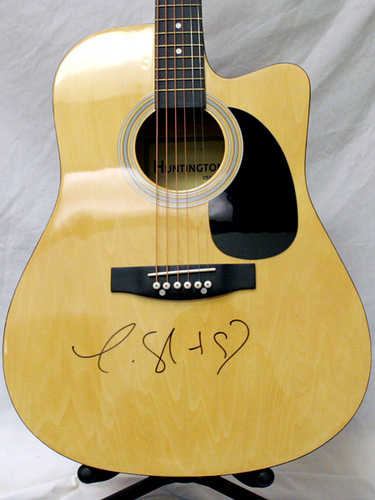guitar: (1, 1, 371, 482)
